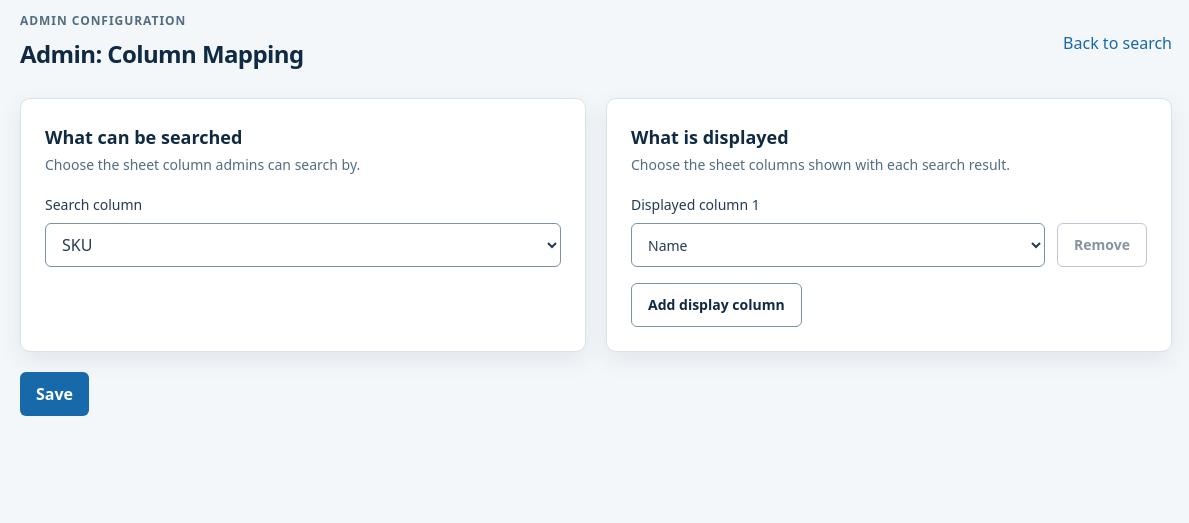
Test: AdminPage › posts displayed columns in order and only shows Saved. after an OK response
This screenshot has width=1189, height=523.
Expected: the dropdown labelled "Search column" is shown, [45, 223, 561, 267]
Click the button "Add display column" at (716, 305), box [631, 283, 802, 327]
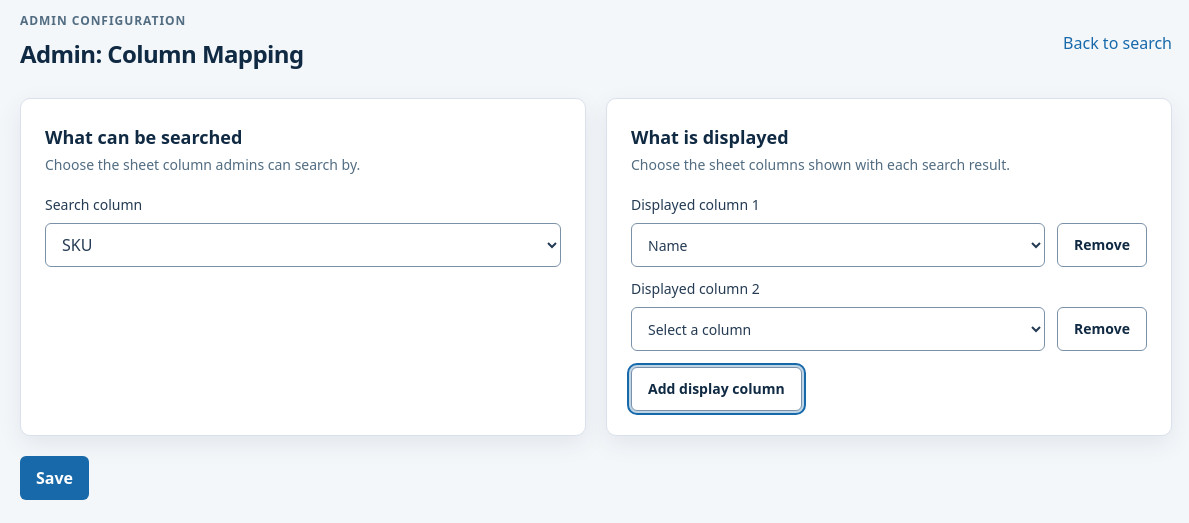
Select "Price" in the dropdown labelled "Displayed column 2" at (838, 329), box [631, 307, 1045, 351]
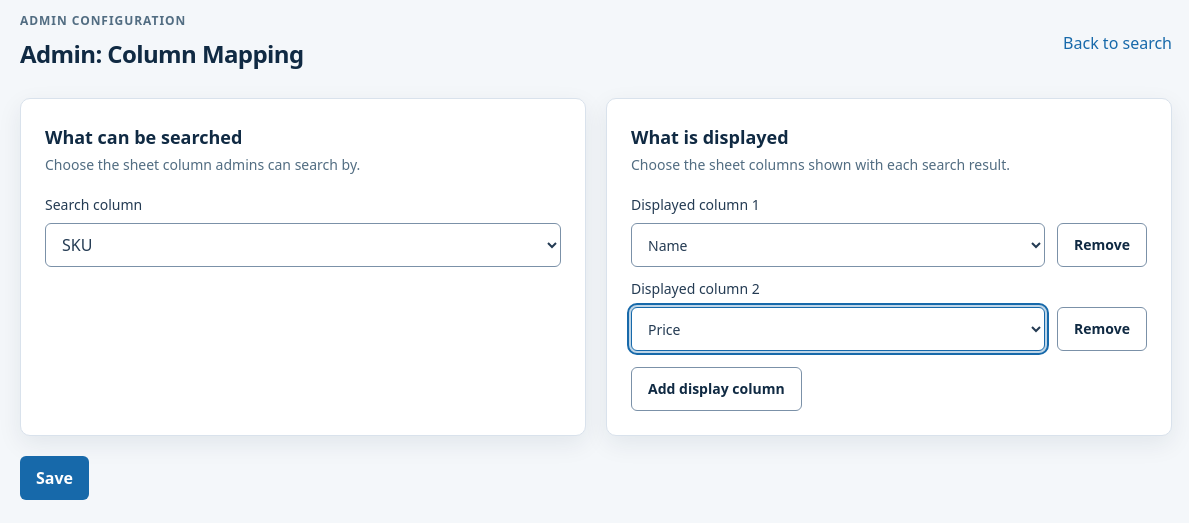
Click the button "Save" at (54, 478), box [20, 456, 89, 500]
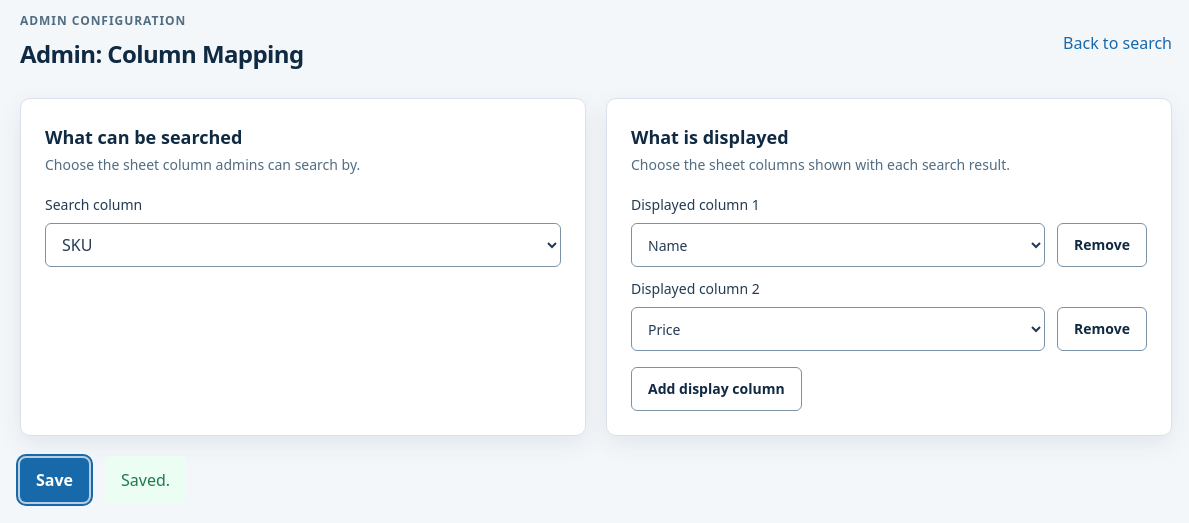
Now the text "Saved." is shown, box [105, 456, 186, 504]
